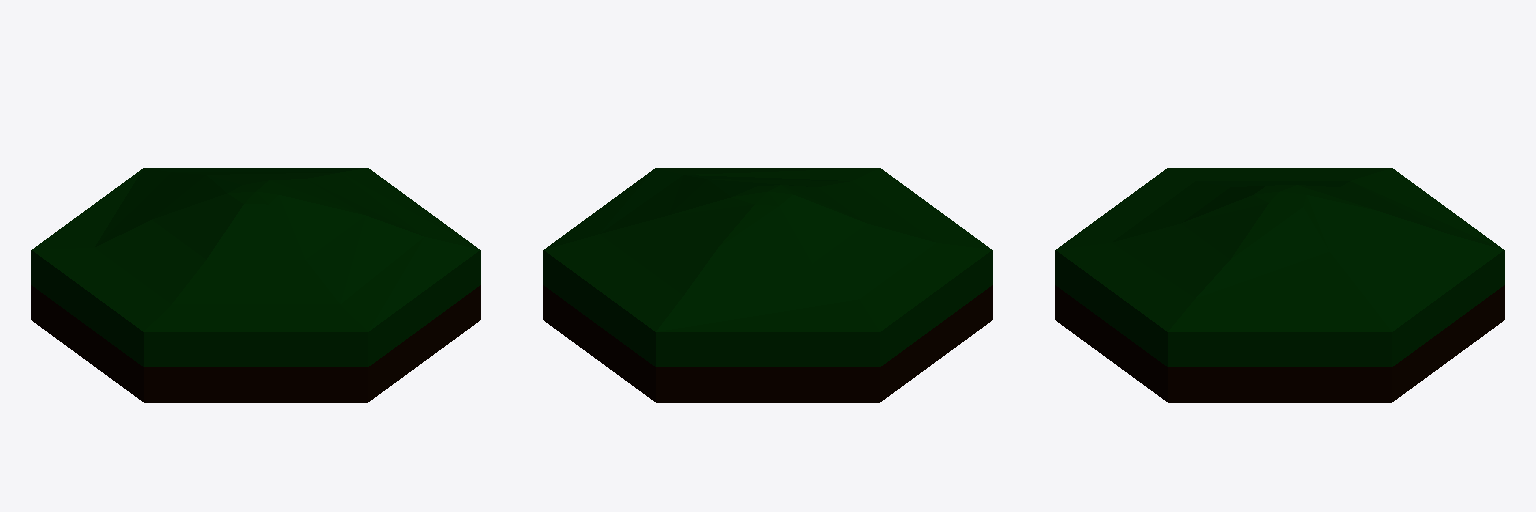
File: hill.obj
The picture shows the model from 3 angles: view 1: azimuth 30°, elevation 25°; view 2: azimuth 150°, elevation 25°; view 3: azimuth 270°, elevation 25°; orthographic projection.
Visible parts, largest first — view 1: Hex; view 2: Hex; view 3: Hex.
Part boxes in pixels (left/top/right/bottom): Hex: left=31, top=168, right=480, bottom=402; Hex: left=543, top=168, right=992, bottom=402; Hex: left=1055, top=168, right=1504, bottom=402.
Bounding box in the file's own units: 1 × 0.3659 × 1.15.